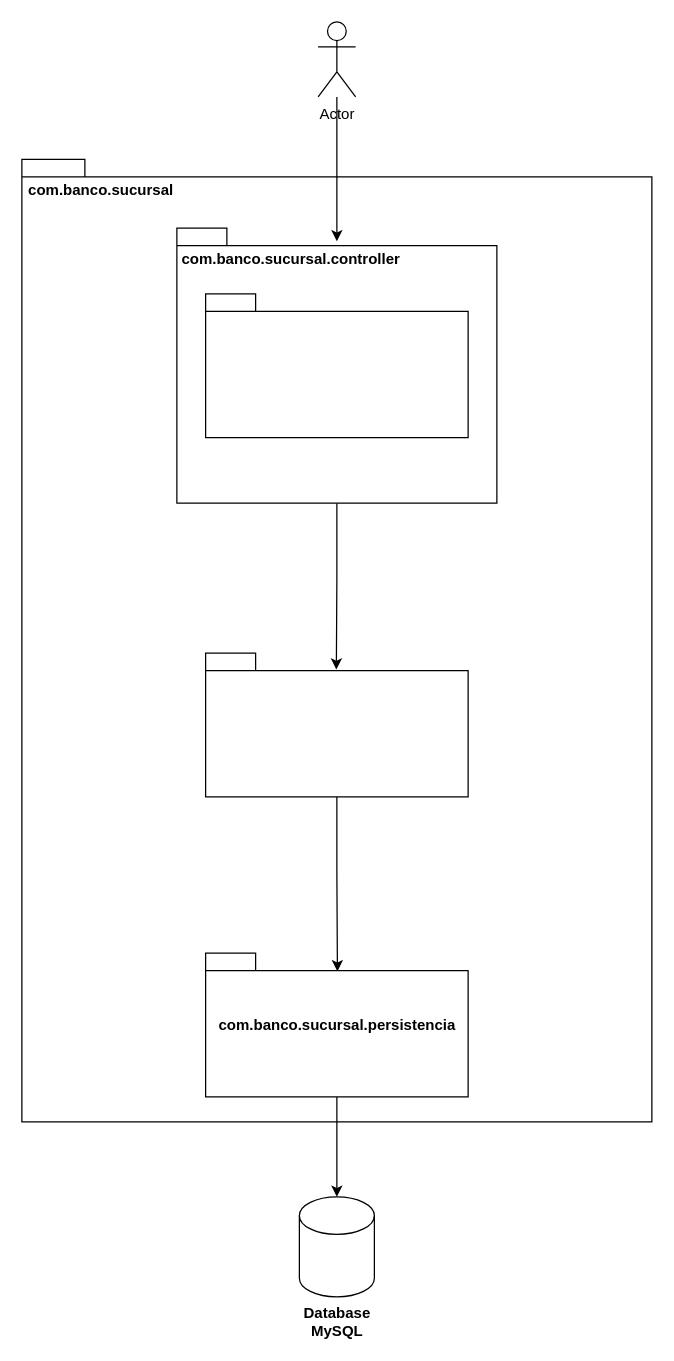
Some shapes in this 674 by 1361 pixel diagram are drawn without their labels. Each missing label, with the centre of its shape:
com.banco.sucursal.controller.dto: the point at 336,365
com.banco.sucursal.logica: the point at 336,724
